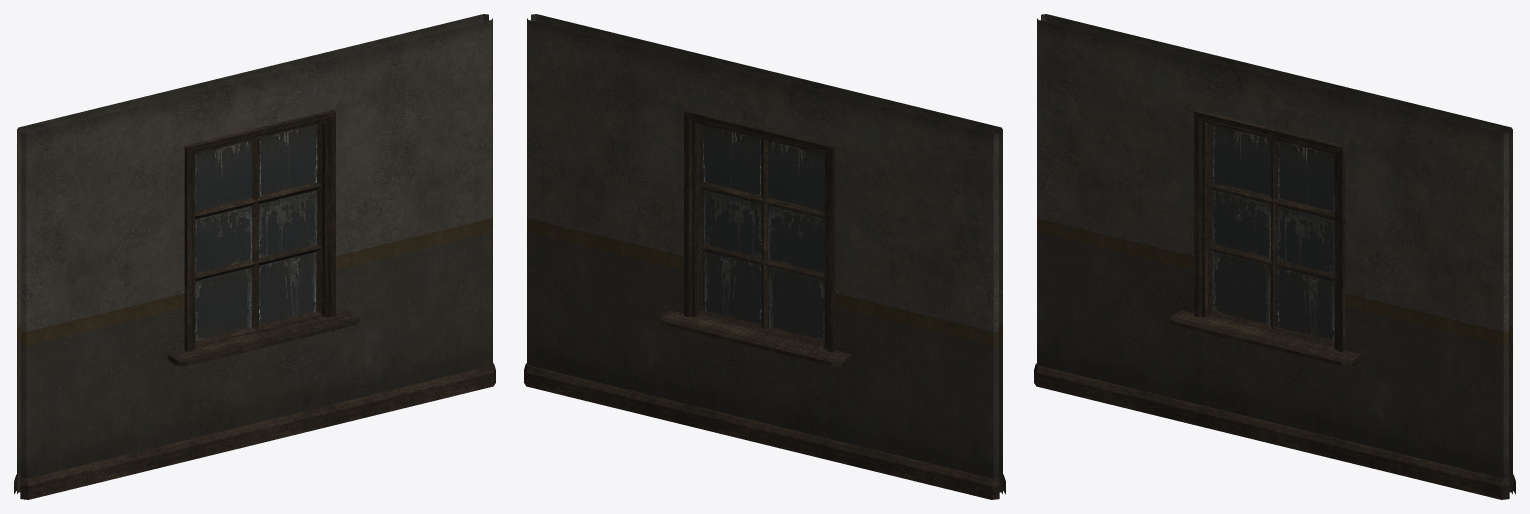
The model's file is window_2_single.obj.
The picture shows the model from 3 angles, left to right: view 1: azimuth 30°, elevation 25°; view 2: azimuth 150°, elevation 25°; view 3: azimuth 330°, elevation 25°; orthographic projection.
Visible parts, largest first — view 1: window_2_single; view 2: window_2_single; view 3: window_2_single.
Part boxes in pixels (x1,y1,x2,y2): window_2_single: (14, 14, 495, 499); window_2_single: (524, 14, 1005, 499); window_2_single: (1034, 14, 1515, 499).
Bounding box in the file's own units: 4.09 × 3 × 0.52.
